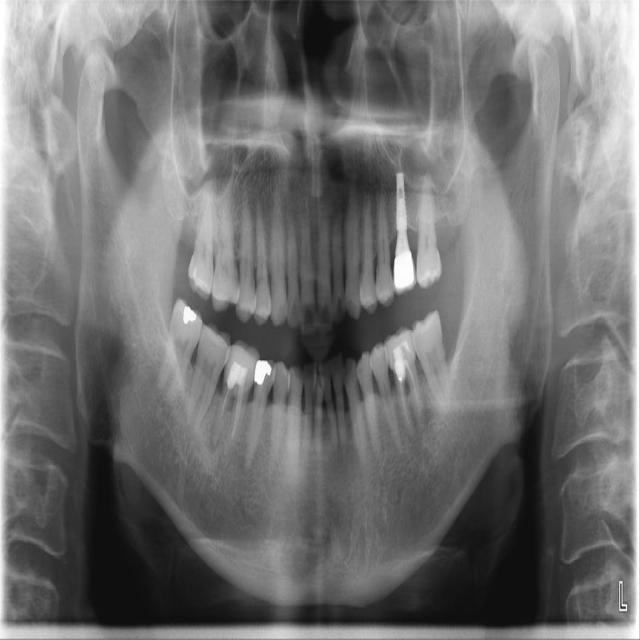Crown: (393, 253, 416, 295)
Filling: (383, 327, 416, 368), (225, 350, 254, 384), (190, 265, 210, 291), (253, 359, 271, 386), (180, 308, 197, 324)
Implant: (396, 172, 409, 257)
Periapical lesion: (207, 424, 222, 453), (237, 456, 255, 477)
Root Canal Treatment: (405, 363, 419, 422), (232, 385, 243, 440), (399, 378, 409, 425), (221, 388, 232, 417)
